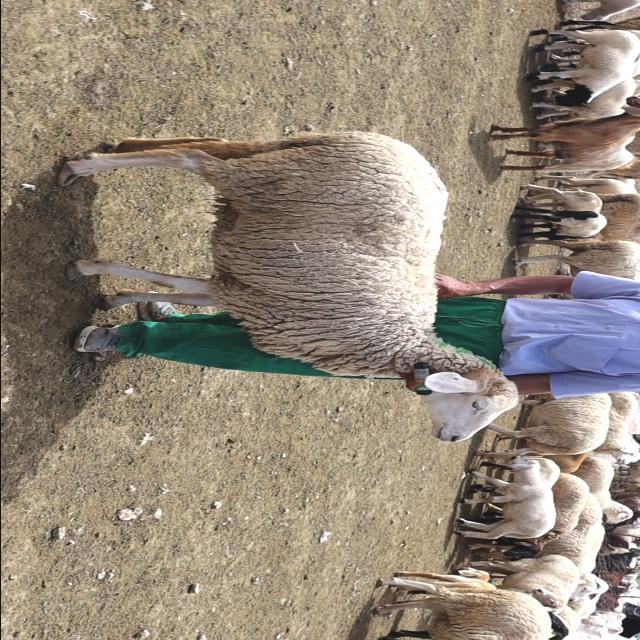Score_4: (57, 131, 518, 442)
